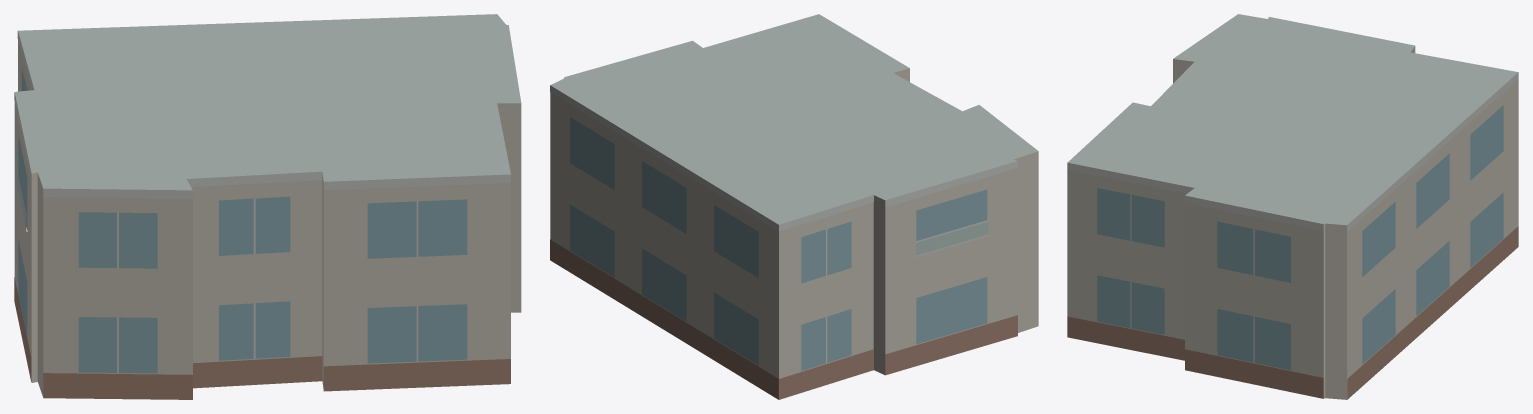
Rendered from survey-upis-32537647.glb.
3 renders of one model, left to right at view 1: azimuth 30°, elevation 25°; view 2: azimuth 150°, elevation 25°; view 3: azimuth 270°, elevation 25°, orthographic. The views are drawn at different scales.
Parts seen in each view (by area): view 1: survey-upis-32537647.tmp; view 2: survey-upis-32537647.tmp; view 3: survey-upis-32537647.tmp.
Boxes of the visible parts, box(x1,y1,x2,y2) form: survey-upis-32537647.tmp: box(14, 14, 521, 399); survey-upis-32537647.tmp: box(550, 14, 1038, 399); survey-upis-32537647.tmp: box(1067, 14, 1518, 399).
Size of the model in its own units: 15.83 by 6.1 by 14.29.
